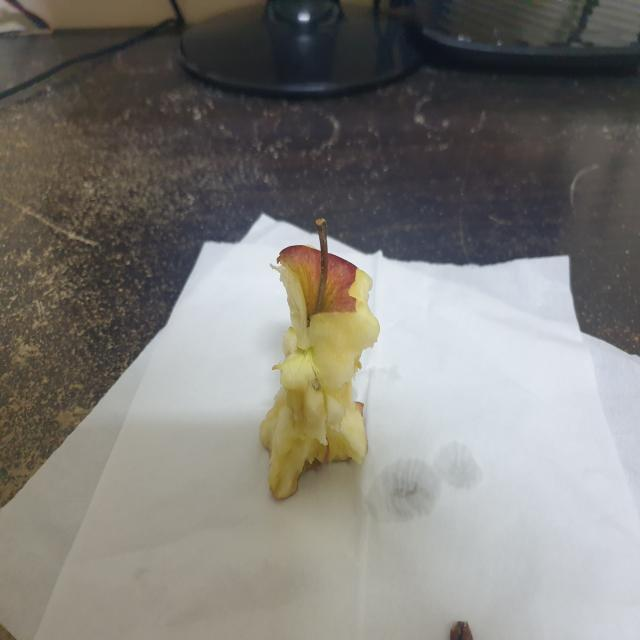apple: (251, 210, 385, 508)
